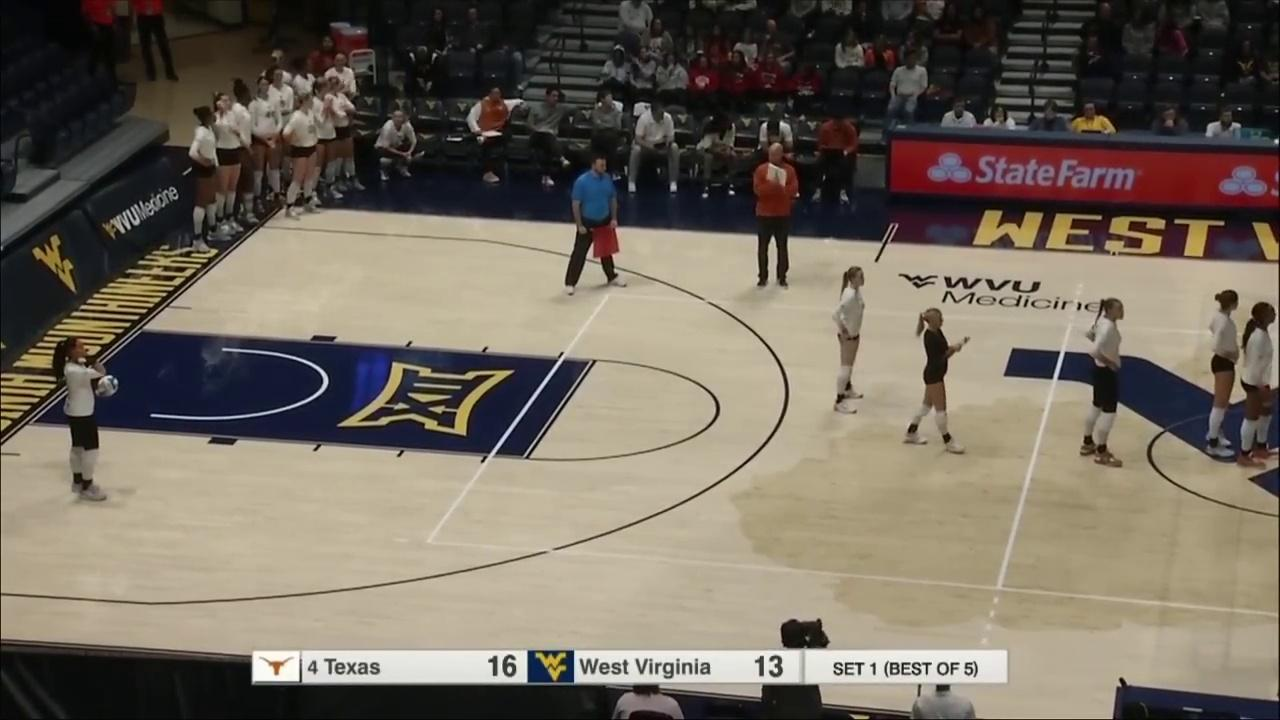player: (904, 307, 970, 458), (58, 339, 117, 503), (1083, 296, 1126, 465), (1239, 303, 1278, 467), (1204, 291, 1240, 455), (833, 267, 868, 415)
refree: (560, 157, 628, 297)
